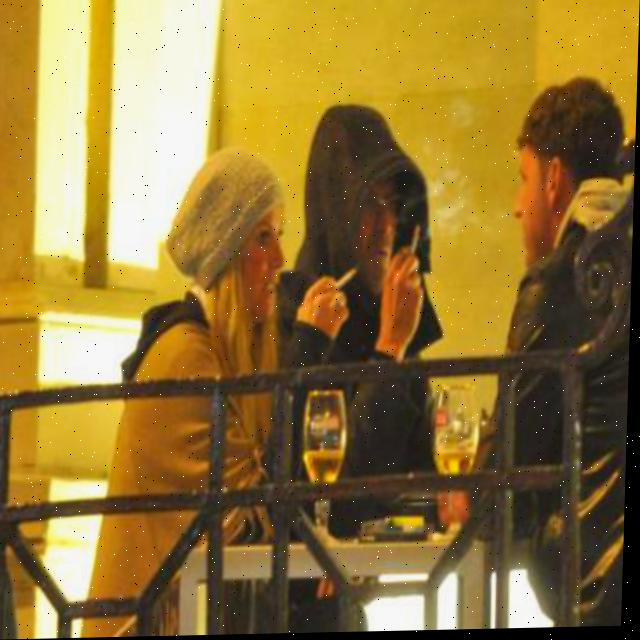cigarette: (336, 269, 357, 293), (413, 224, 424, 259)
